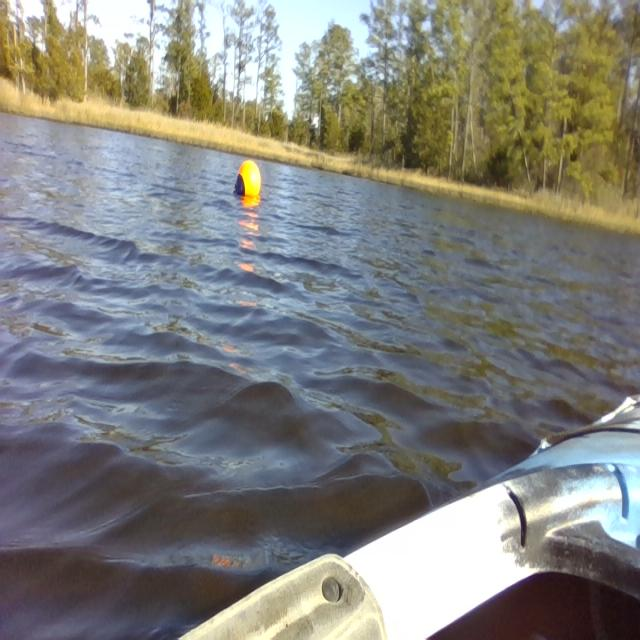Buoy: (229, 154, 262, 207)
